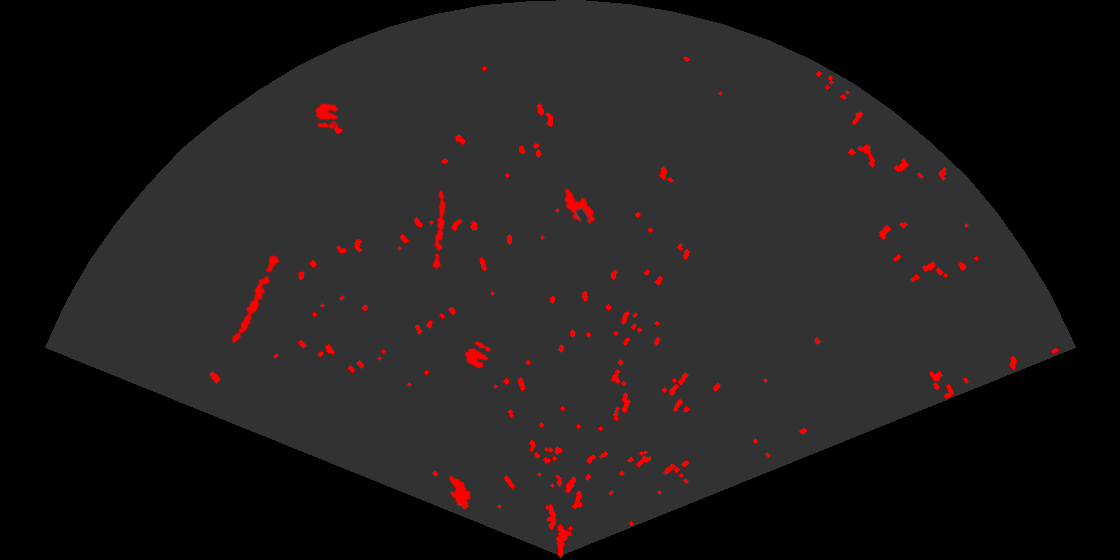AUV: (563, 187, 597, 226), (447, 474, 473, 511)
ball: (463, 340, 493, 370), (314, 102, 340, 130)
chain: (230, 250, 281, 345), (431, 189, 448, 271)
